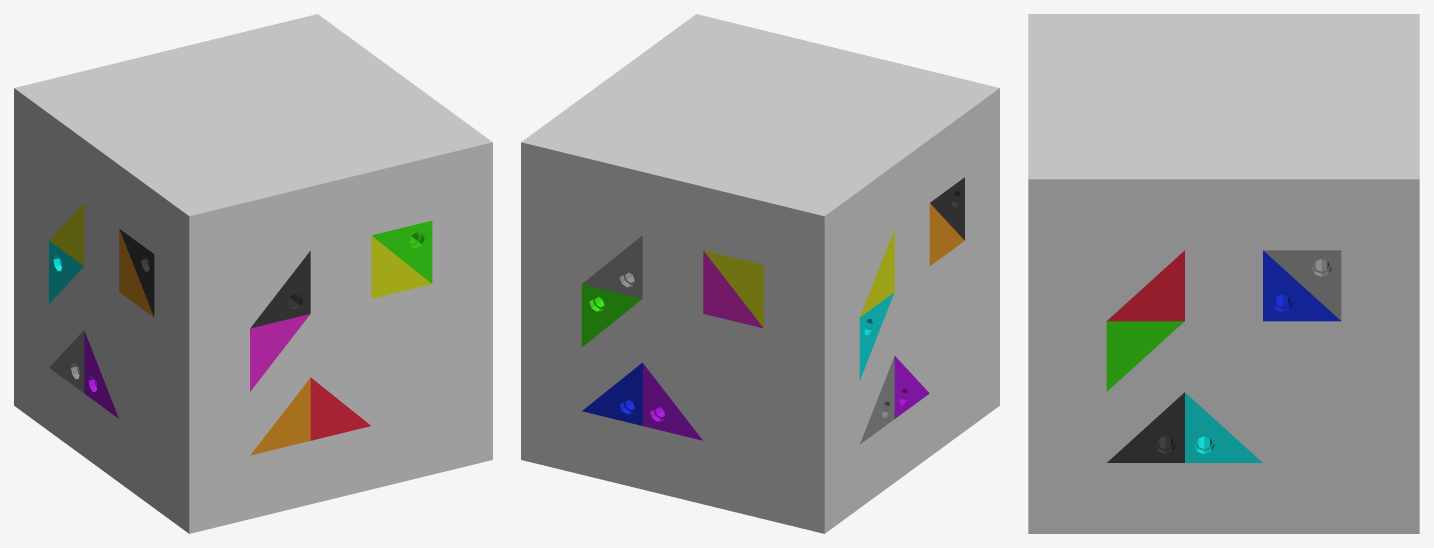
Rendered from TamGram.fbx.
3 renders of one model, left to right at view 1: azimuth 30°, elevation 25°; view 2: azimuth 150°, elevation 25°; view 3: azimuth 270°, elevation 25°, orthographic. The views are drawn at different scales.
Parts seen in each view (by area): view 1: room, T4, T10, T3, T2, T5, T1, T9, T8, T6; view 2: room, T8, T9, T4, T5, T7, T1, T6, T3, T10; view 3: room, T7, T2, T9, T5, T10, T6.
Part boxes in pixels (x1,y1,x2,y2): room: (14,14,492,533); T4: (49,203,431,298); T10: (119,229,310,328); T3: (119,229,310,455); T2: (310,377,370,440); T5: (372,220,432,283); T1: (250,314,310,391); T9: (49,330,84,392); T8: (84,331,118,418); T6: (49,241,83,303); room: (521,14,999,533); T8: (642,356,929,440); T9: (582,235,894,444); T4: (703,229,894,327); T5: (581,284,641,347); T7: (582,362,642,425); T1: (703,251,763,328); T6: (859,292,894,380); T3: (929,203,964,265); T10: (930,177,964,240); room: (1028,14,1419,533); T7: (1263,250,1340,321); T2: (1107,250,1184,321); T9: (1263,250,1341,320); T5: (1106,321,1184,391); T10: (1107,392,1184,462); T6: (1185,392,1262,462).
Bounding box in the file's own units: 1000 × 1000 × 1000.
